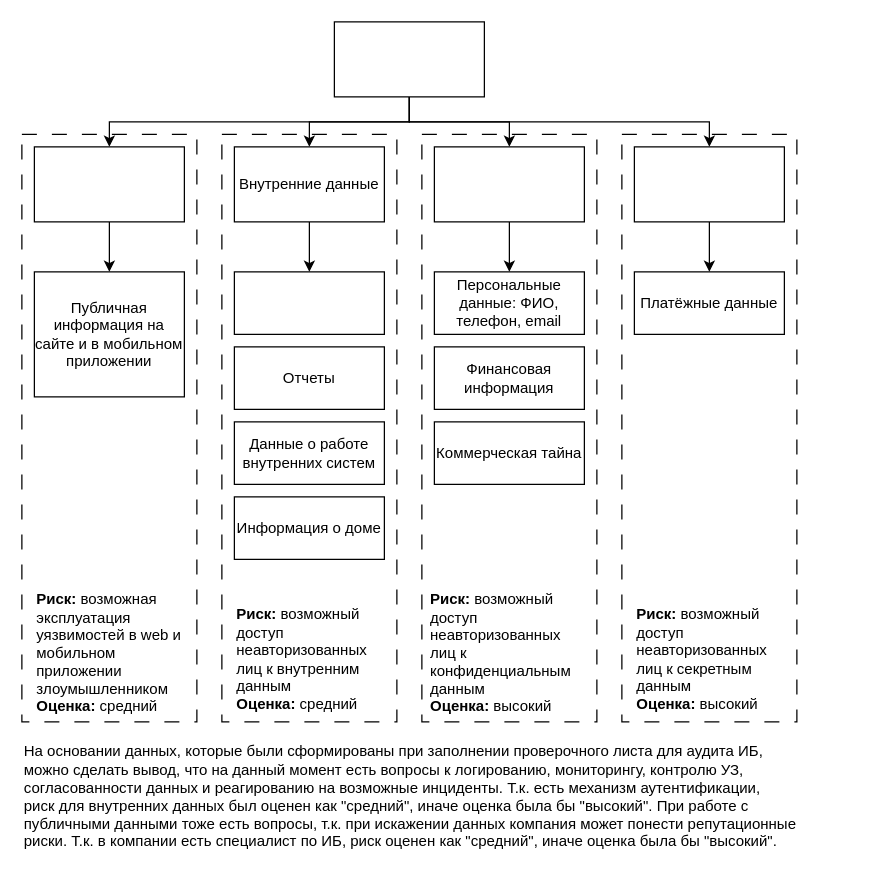
This 869x881 diagram has some shape labels left out. Each missing label, with the box of its shape:
Безопасность данных: (333, 21, 484, 97)
Внутренние инструкции: (233, 271, 384, 334)
Конфиденциальные данные: (433, 146, 584, 222)
Публичные данные: (33, 146, 184, 222)
Секретные данные: (633, 146, 784, 222)
